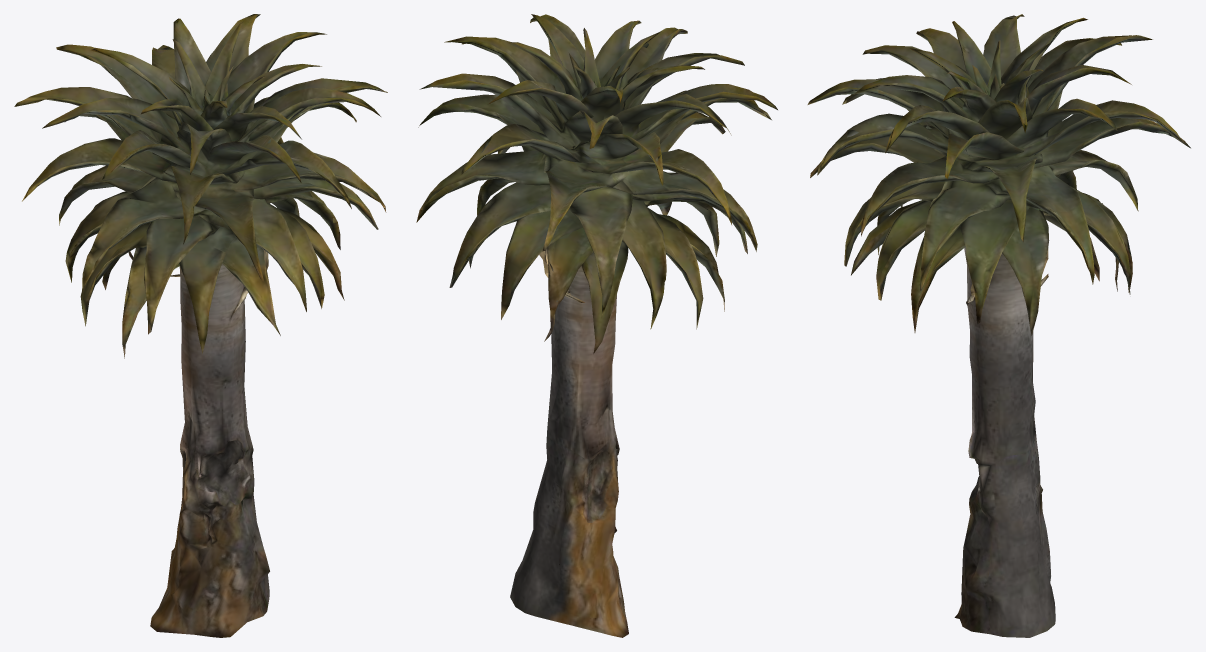
File: quiver_tree_02.glb
The picture shows the model from 3 angles, left to right: view 1: azimuth 30°, elevation 25°; view 2: azimuth 150°, elevation 25°; view 3: azimuth 270°, elevation 25°; orthographic projection.
Size of the model in its own units: 0.8646 by 1.46 by 0.8805.
1 material, 1 textured.
